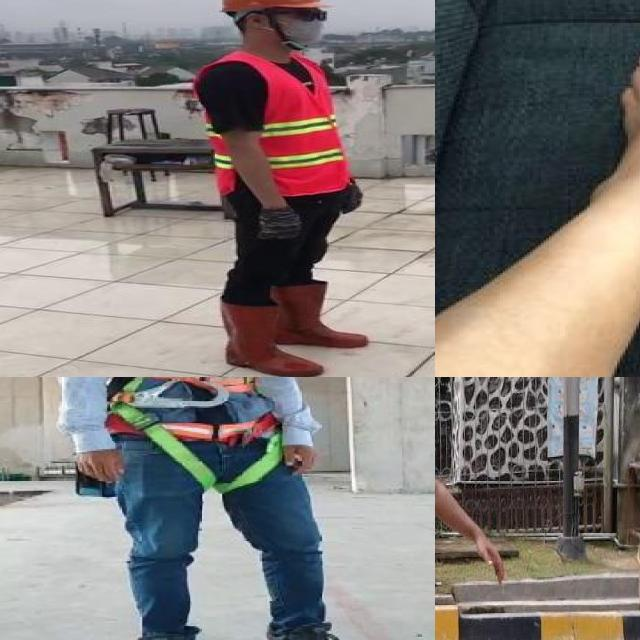boots: (215, 296, 327, 377), (277, 280, 375, 348)
face_mask: (272, 6, 332, 49)
glasses: (284, 6, 332, 25)
hand_glove: (254, 206, 306, 243)
hand_noglove: (67, 439, 130, 488), (272, 431, 322, 483)
head_helmet: (217, 0, 320, 11)
person: (49, 377, 380, 640), (185, 0, 381, 377), (435, 377, 524, 640)
shoes: (257, 622, 378, 640), (117, 620, 212, 640)
vest: (194, 52, 352, 197), (64, 377, 291, 446)
